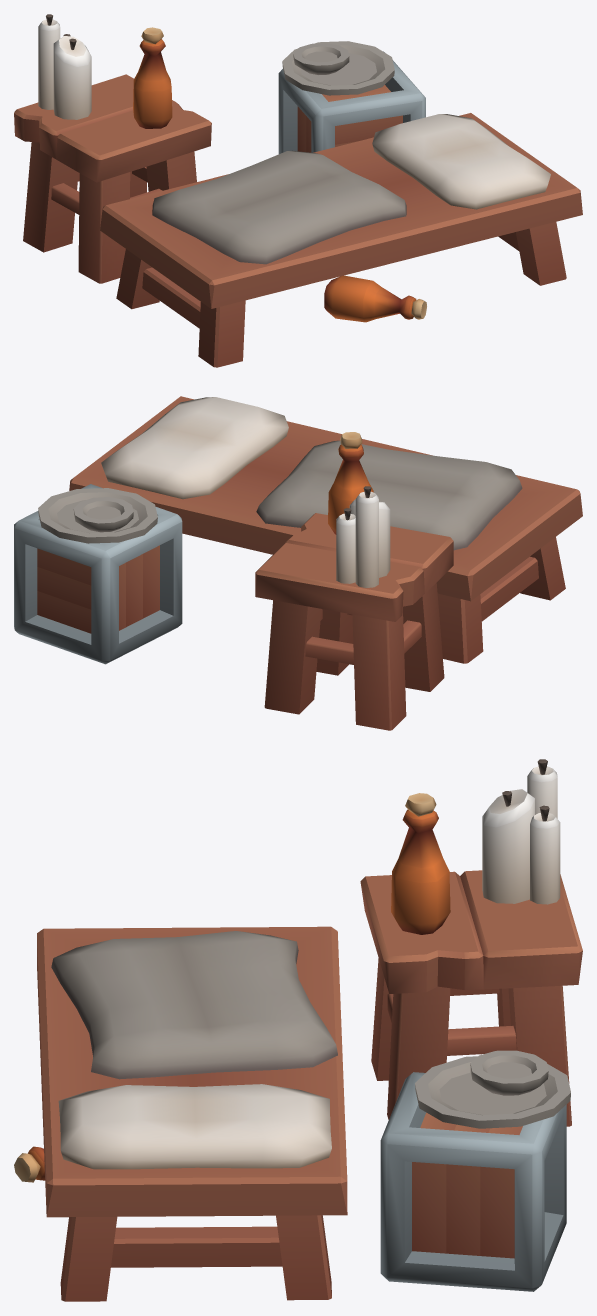
The model's file is 超级床使用前.fbx.
The picture shows the model from 3 angles, top to bottom: view 1: azimuth 30°, elevation 25°; view 2: azimuth 150°, elevation 25°; view 3: azimuth 270°, elevation 25°; orthographic projection. The views are drawn at different scales.
Parts seen in each view (by area): view 1: bed_decorated.001; view 2: bed_decorated.001; view 3: bed_decorated.001.
Part boxes in pixels (bbox=[...]): bed_decorated.001: bbox=[14, 14, 582, 367]; bed_decorated.001: bbox=[14, 396, 582, 730]; bed_decorated.001: bbox=[14, 759, 582, 1301].
Bounding box in the file's own units: 309 × 170 × 284.
1 material, 1 textured.
